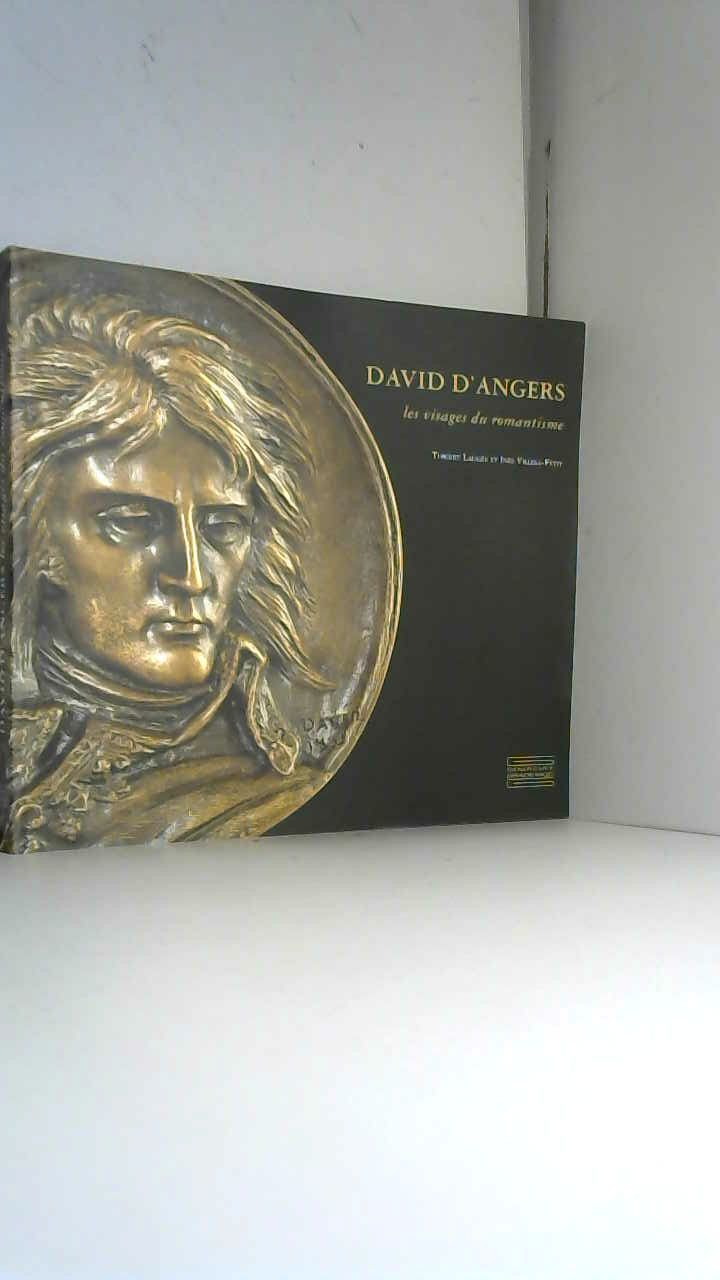book: (0, 226, 608, 873)
